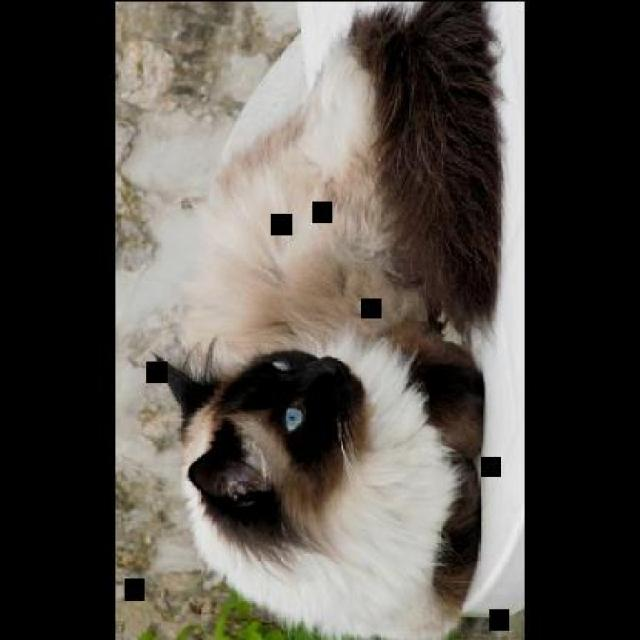unauthorized: (147, 0, 506, 638), (148, 322, 486, 638)
